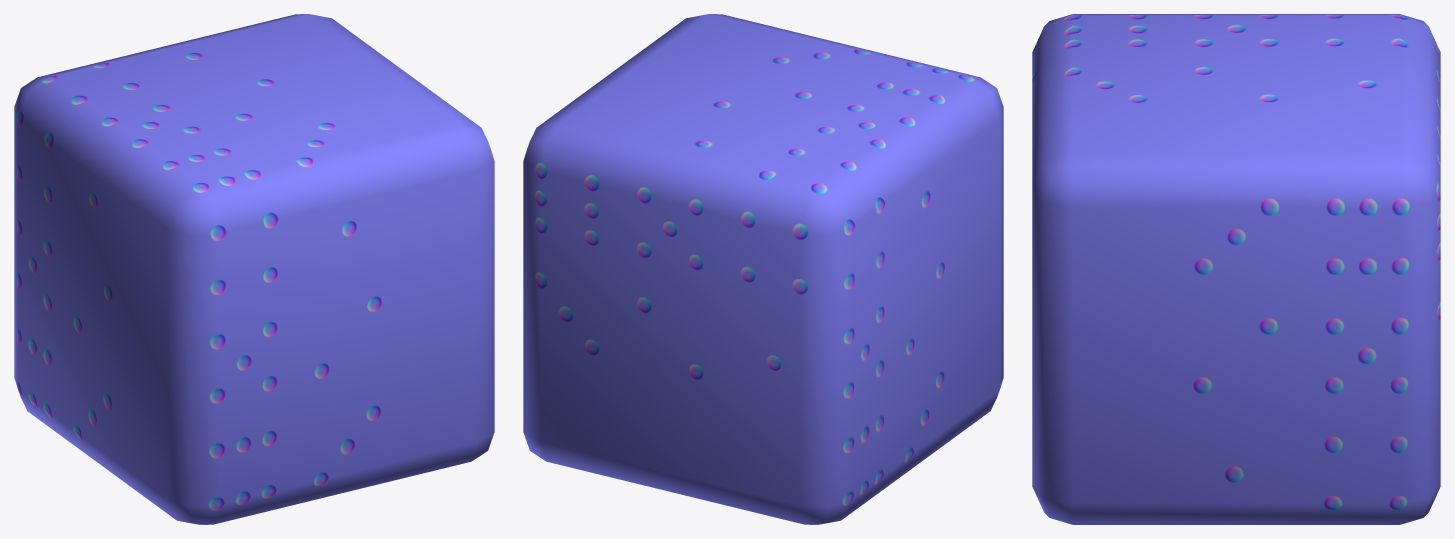
The model's file is Dice - Same Sides.obj.
The picture shows the model from 3 angles, left to right: view 1: azimuth 30°, elevation 25°; view 2: azimuth 150°, elevation 25°; view 3: azimuth 270°, elevation 25°; orthographic projection. The views are drawn at different scales.
Parts seen in each view (by area): view 1: Dice_(Same_Sides)_Mesh; view 2: Dice_(Same_Sides)_Mesh; view 3: Dice_(Same_Sides)_Mesh.
Boxes of the visible parts, x1=… form: Dice_(Same_Sides)_Mesh: x1=14, y1=14, x2=494, y2=524; Dice_(Same_Sides)_Mesh: x1=523, y1=14, x2=1003, y2=524; Dice_(Same_Sides)_Mesh: x1=1032, y1=14, x2=1440, y2=524.
Bounding box in the file's own units: 1 × 1 × 1.
